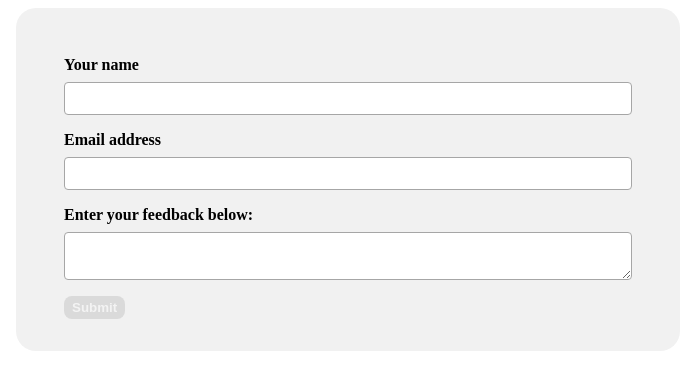
Test: Form component › should submit filled form
The width and height of the screenshot is (697, 386).
Type "Gedas" into the field labelled "Your name" at (348, 98), box [64,82,632,115]
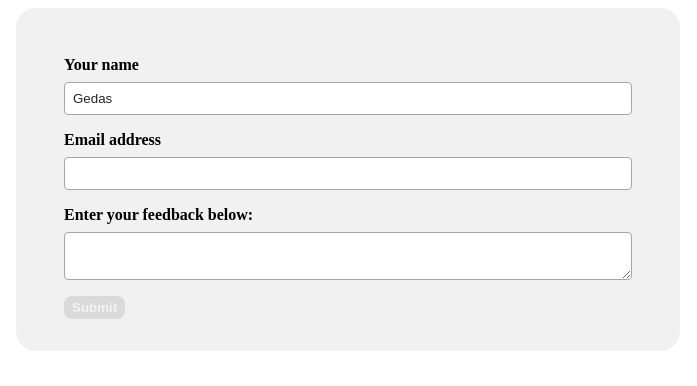
Type "gedas@gedas.lt" into the field labelled "Email address" at (348, 174), box [64,157,632,190]
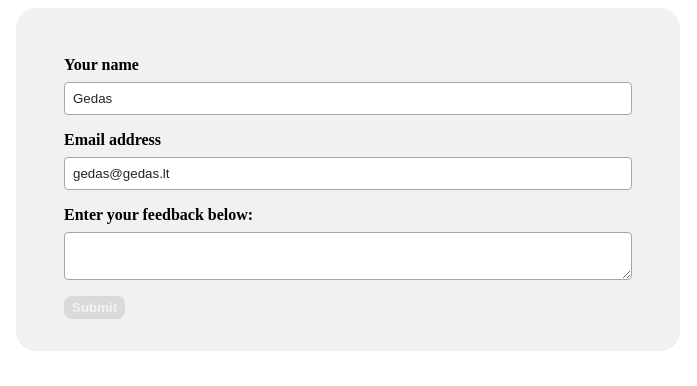
Type "Testas" into the text box labelled "Enter your feedback below:" at (348, 256), box [64,232,632,280]
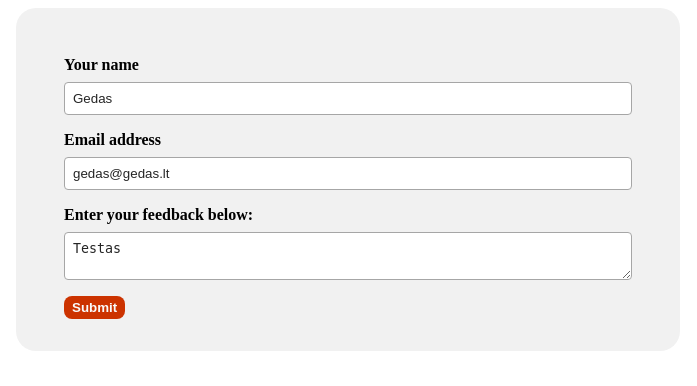
Click the button at (95, 308), box [64,296,125,319]
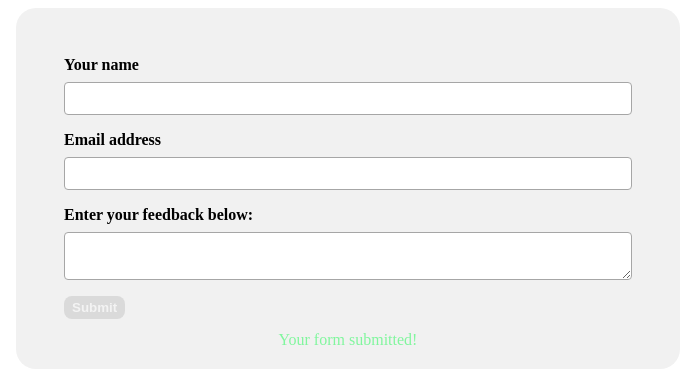
Now the text "Your form submitted!" is shown, box [279,331,417,348]
